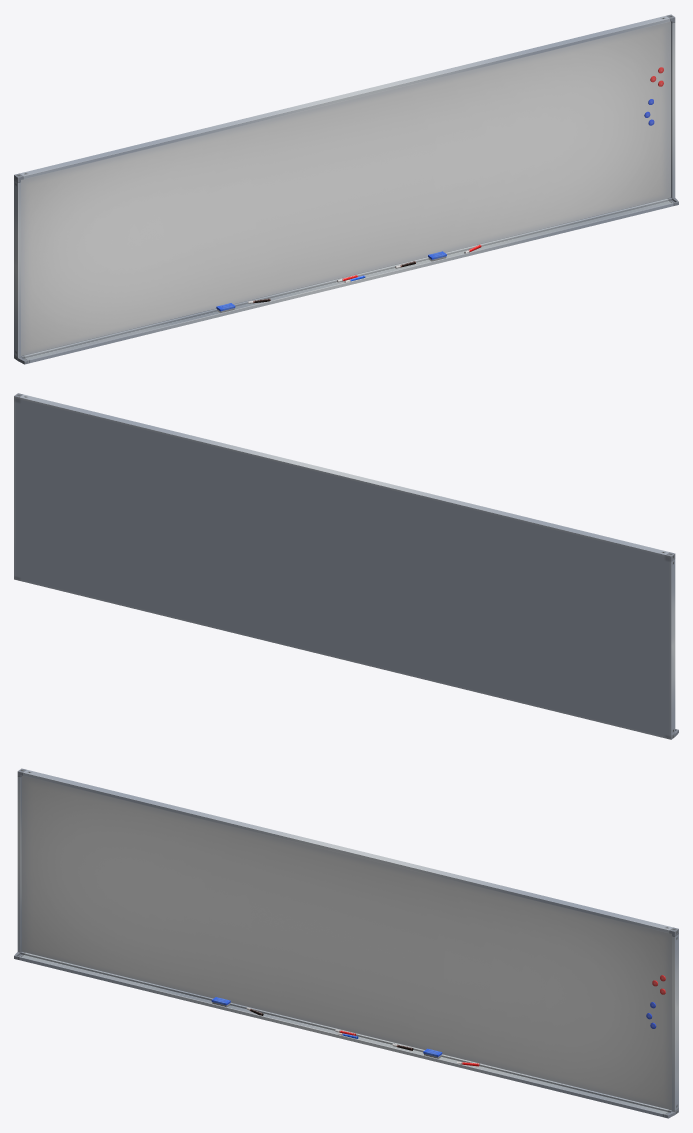
File: KR_Whiteboard_01_01.fbx
3 renders of one model, top to bottom at view 1: azimuth 30°, elevation 25°; view 2: azimuth 150°, elevation 25°; view 3: azimuth 330°, elevation 25°, orthographic.
Visible parts, largest first — view 1: whiteboard01; view 2: whiteboard01; view 3: whiteboard01.
Boxes of the visible parts, x1,y1,x2,y2 form: whiteboard01: (14, 14, 678, 364); whiteboard01: (14, 393, 678, 739); whiteboard01: (14, 768, 678, 1118).
Size of the model in its own units: 450 by 120 by 10.83.
